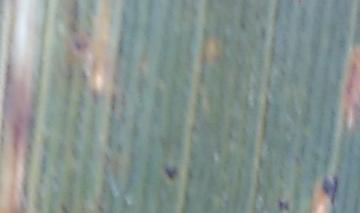tarspot: (323, 175, 338, 205), (163, 166, 178, 180), (277, 200, 291, 211), (76, 41, 82, 51)
